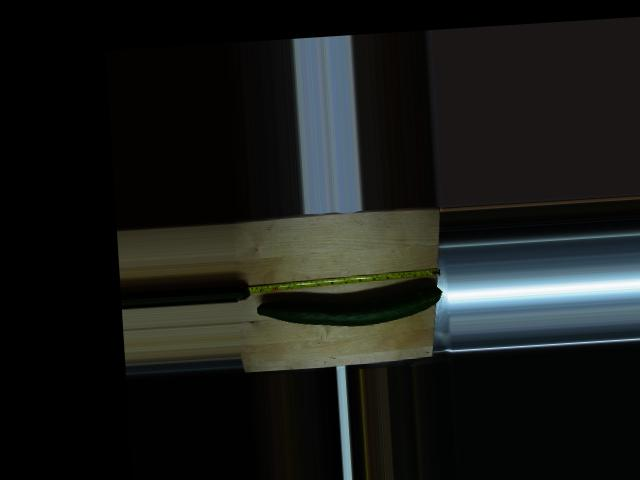cucumber: (255, 284, 443, 331)
